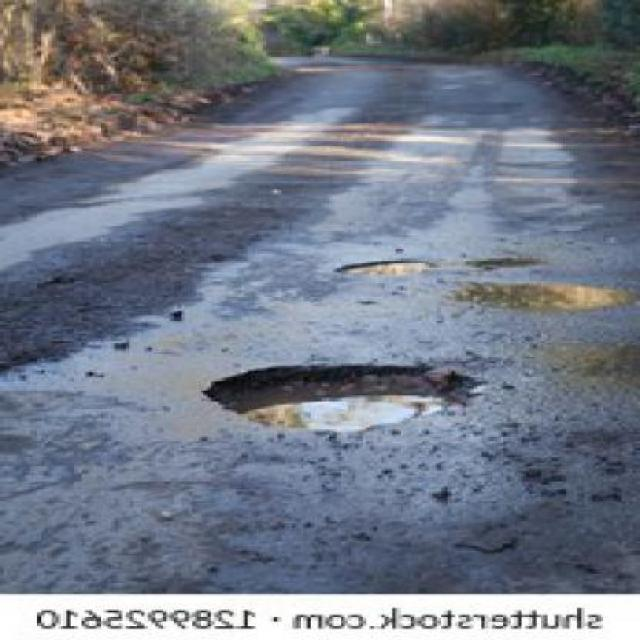Pothole: (204, 362, 481, 432), (336, 259, 438, 274)
